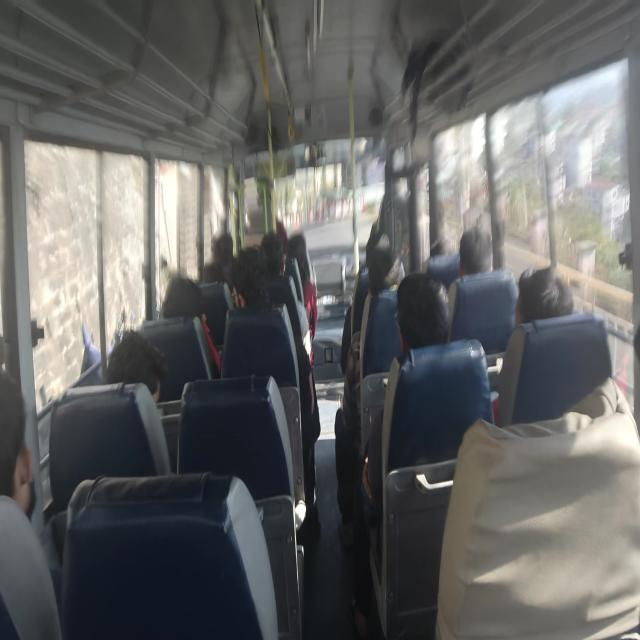person: (434, 376, 640, 638), (351, 272, 451, 636), (222, 244, 318, 530), (335, 229, 404, 545), (497, 264, 632, 424), (0, 371, 62, 638), (103, 328, 172, 473), (260, 230, 314, 366), (161, 273, 221, 376), (104, 327, 168, 405), (447, 224, 493, 314), (514, 263, 574, 326), (285, 232, 318, 340), (458, 223, 493, 276)
